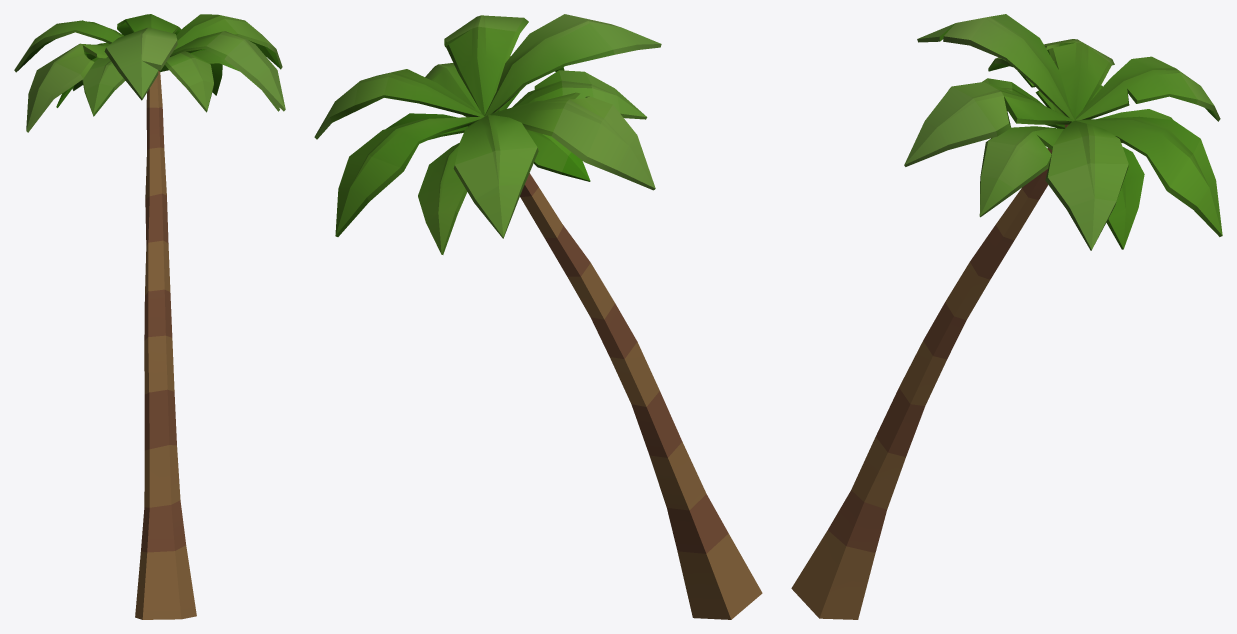
File: Anim_PalmTree_Colour.fbx
The picture shows the model from 3 angles, left to right: view 1: azimuth 30°, elevation 25°; view 2: azimuth 150°, elevation 25°; view 3: azimuth 270°, elevation 25°; orthographic projection. The views are drawn at different scales.
Parts seen in each view (by area): view 1: Anim_PalmTree_Colour; view 2: Anim_PalmTree_Colour; view 3: Anim_PalmTree_Colour.
Boxes of the visible parts, box(x1,y1,x2,y2) form: Anim_PalmTree_Colour: box(14, 14, 285, 619); Anim_PalmTree_Colour: box(314, 14, 762, 619); Anim_PalmTree_Colour: box(791, 14, 1222, 619).
Size of the model in its own units: 4.11 by 7.72 by 4.86.
